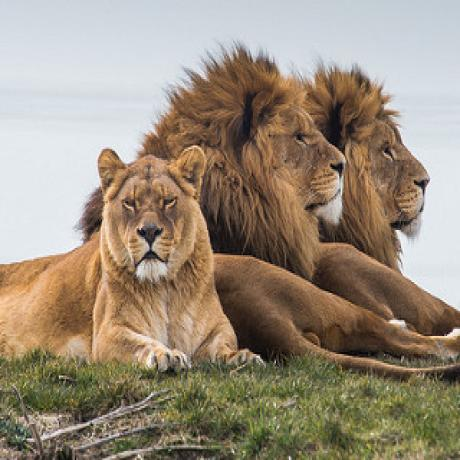Lion: (0, 140, 243, 375), (183, 39, 348, 367), (334, 61, 437, 364)
